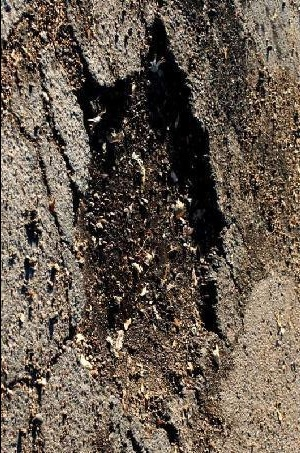pothole: (71, 14, 229, 439)
